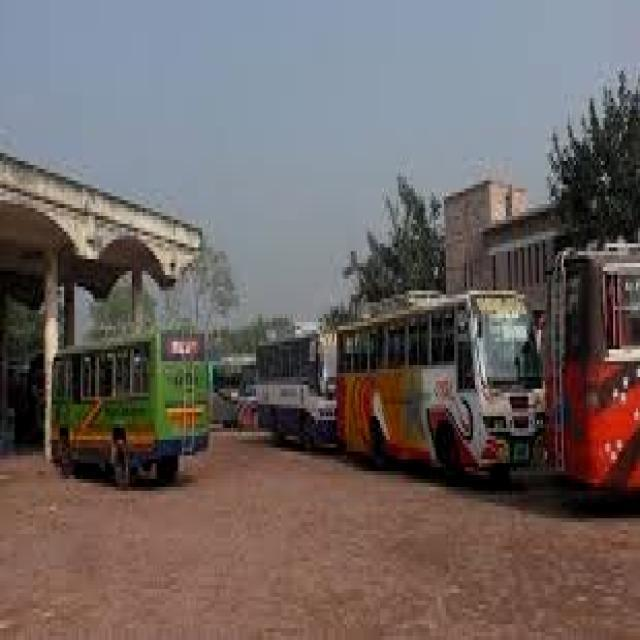Bus: (337, 279, 548, 494), (46, 318, 210, 494), (549, 215, 640, 526), (245, 309, 340, 451)
